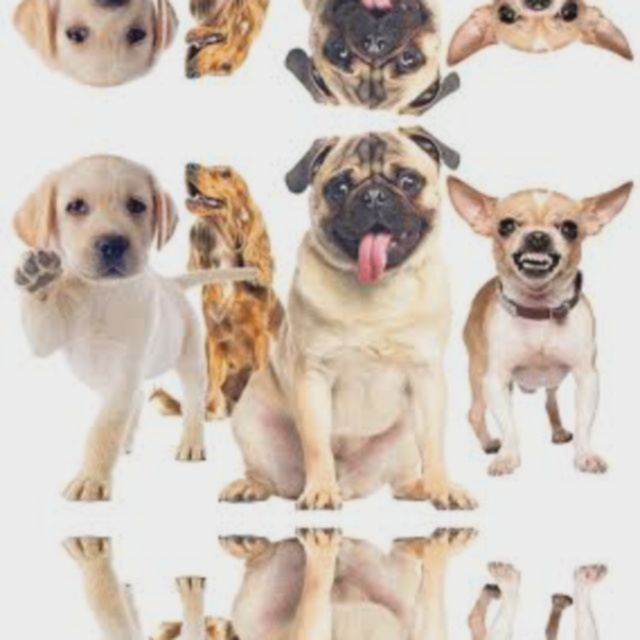dog: (262, 125, 472, 498), (6, 141, 212, 485), (445, 160, 640, 478), (262, 0, 472, 115), (262, 540, 472, 640), (6, 0, 212, 99), (6, 553, 212, 640), (444, 0, 639, 80), (444, 560, 639, 640)
